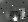person: (13, 9, 19, 21), (21, 9, 26, 20)
